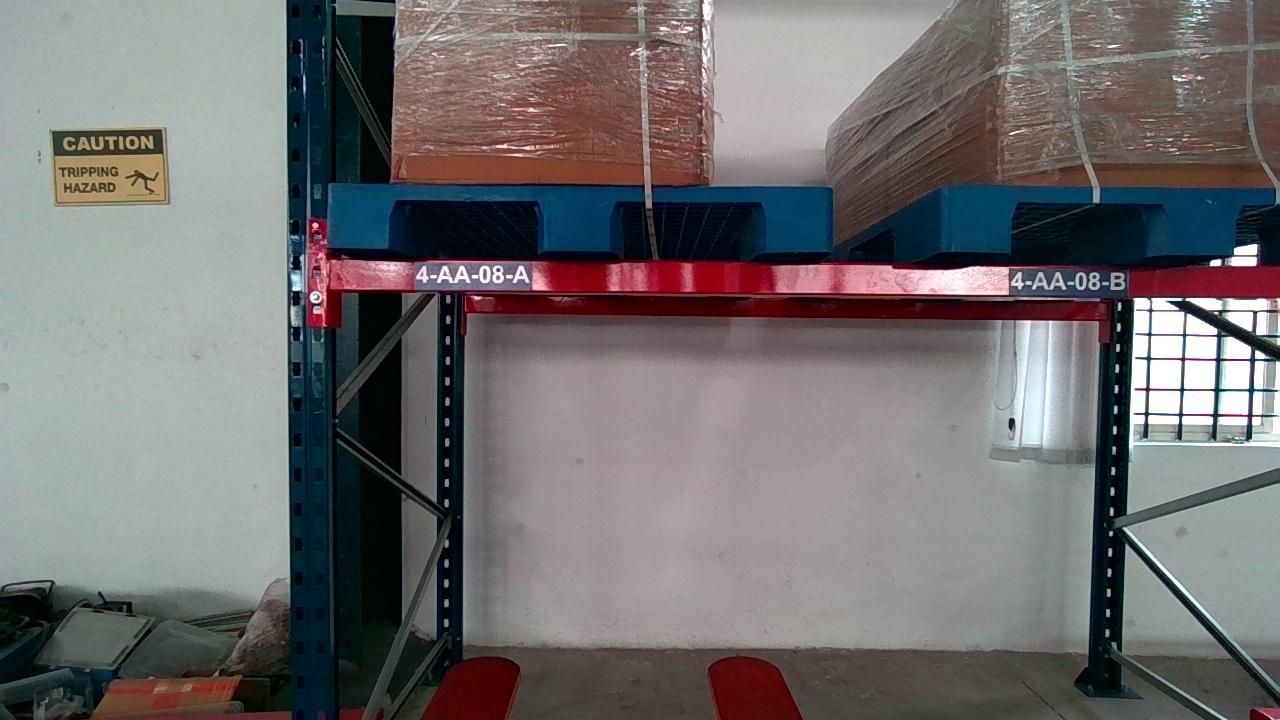h_rack: (314, 261, 1280, 293)
small_pallet: (326, 185, 834, 250), (953, 178, 1280, 250)
